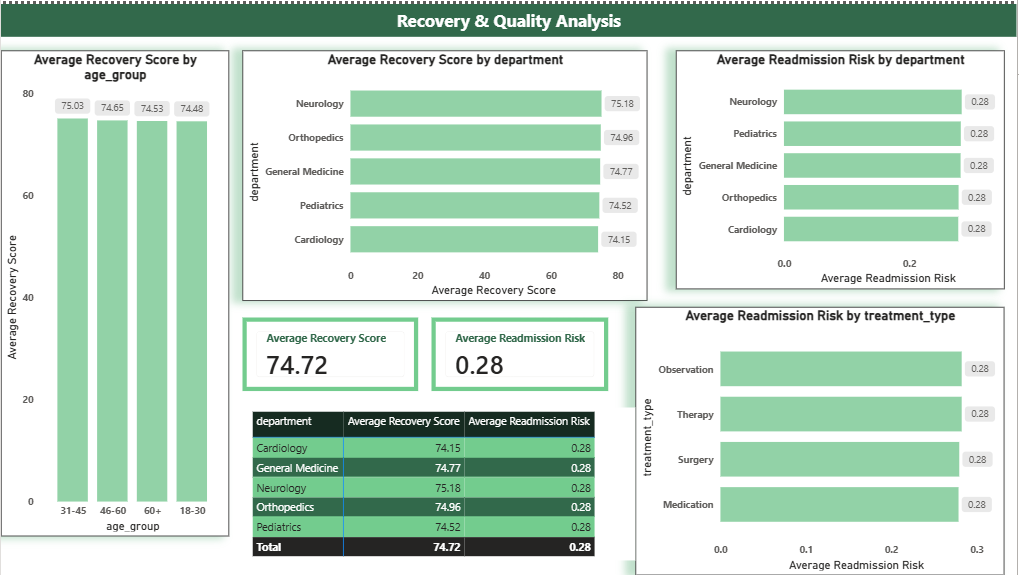

The dashboard page shown, as its layout file describes it:
{"tool":"powerbi","page":{"name":"Recovery & Quality Analysis","canvas":[1280,720],"ordinal":3},"visuals":[{"type":"textbox","box":[0,0,1279.4,41.6],"z":0},{"type":"cardVisual","fields":{"Data":["Measures (2).Average Recovery Score"]},"box":[304.3,395,221.1,92.6],"z":1},{"type":"cardVisual","fields":{"Data":["Measures (2).Average Readmission Risk"]},"box":[542.4,395,223,92.6],"z":2},{"type":"clusteredBarChart","fields":{"Category":["PatientAnalytics.department"],"Y":["Measures (2).Average Recovery Score"]},"box":[304.3,58.6,510.2,315.6],"z":3},{"type":"clusteredBarChart","fields":{"Category":["PatientAnalytics.department"],"Y":["Measures (2).Average Readmission Risk"]},"box":[850.4,58.6,413.9,300.5],"z":4},{"type":"columnChart","fields":{"Category":["PatientAnalytics.age_group"],"Y":["Measures (2).Average Recovery Score"]},"box":[0,58.6,287.2,612.3],"z":5},{"type":"barChart","fields":{"Category":["PatientAnalytics.treatment_type"],"Y":["Measures (2).Average Readmission Risk"]},"box":[799.4,381.7,464.9,338.3],"z":6},{"type":"pivotTable","fields":{"Rows":["PatientAnalytics.department"],"Values":["Measures (2).Average Recovery Score","Measures (2).Average Readmission Risk"]},"box":[311.8,508.4,487.6,192.8],"z":7}]}

Visuals, with their boxes in screenshot pixels (x1, y1, x2, y2), scaled from the page's 1280x720 canvas onto the 1019x575 screenshot:
textbox: {"x1": 0, "y1": 0, "x2": 1018, "y2": 33}
cardVisual - Measures (2).Average Recovery Score: {"x1": 242, "y1": 315, "x2": 418, "y2": 389}
cardVisual - Measures (2).Average Readmission Risk: {"x1": 432, "y1": 315, "x2": 609, "y2": 389}
clusteredBarChart - PatientAnalytics.department x Measures (2).Average Recovery Score: {"x1": 242, "y1": 47, "x2": 648, "y2": 299}
clusteredBarChart - PatientAnalytics.department x Measures (2).Average Readmission Risk: {"x1": 677, "y1": 47, "x2": 1007, "y2": 287}
columnChart - PatientAnalytics.age_group x Measures (2).Average Recovery Score: {"x1": 0, "y1": 47, "x2": 229, "y2": 536}
barChart - PatientAnalytics.treatment_type x Measures (2).Average Readmission Risk: {"x1": 636, "y1": 305, "x2": 1007, "y2": 574}
pivotTable - PatientAnalytics.department x Measures (2).Average Recovery Score: {"x1": 248, "y1": 406, "x2": 636, "y2": 560}
